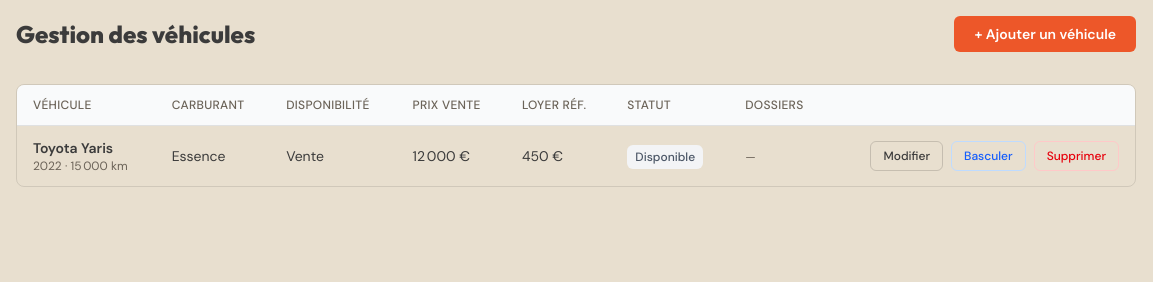
Test: VehicleManagement › Toggle direct (sans modal prix) › affiche l'erreur 409 avec le message du serveur
This screenshot has width=1153, height=282.
What coordinates should you click on to do the following:
click the button "Basculer"
I would click on:
 (988, 156)
Its box is 951,141 -> 1026,171.
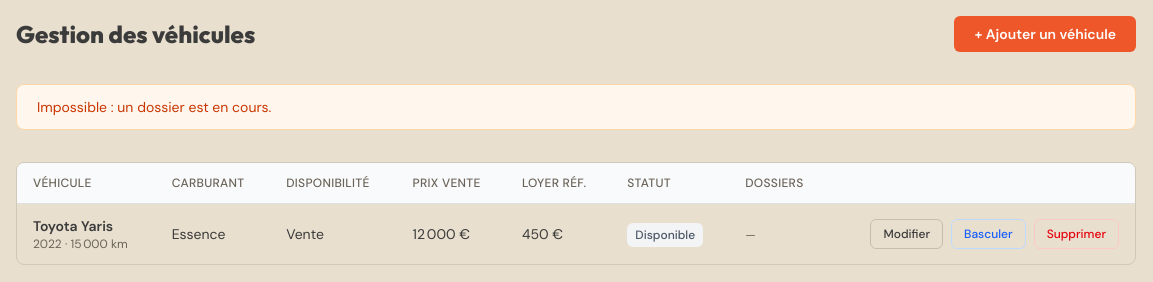
expect the message reads "Impossible : un dossier est en cours.": met, box 37,98 -> 271,116
